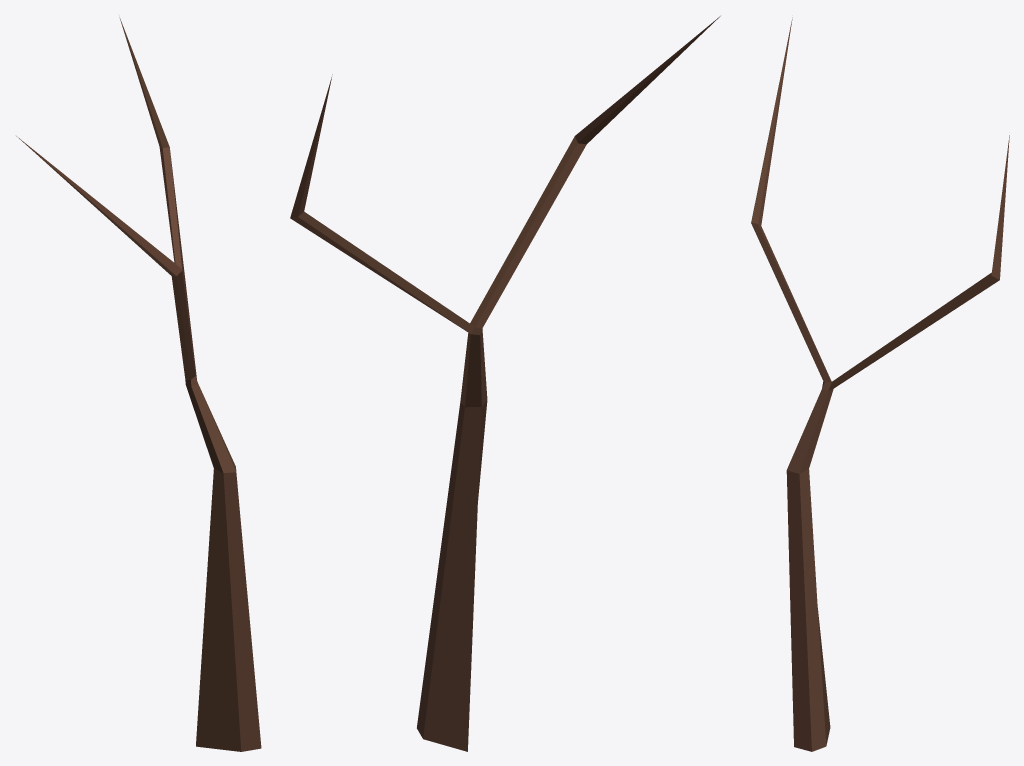
Rendered from TreeTrunk_31.fbx.
3 views of the same model, side by side, from view 1: azimuth 30°, elevation 25°; view 2: azimuth 150°, elevation 25°; view 3: azimuth 270°, elevation 25° (orthographic). The views are drawn at different scales.
Visible parts, largest first — view 1: TreeTrunk_31; view 2: TreeTrunk_31; view 3: TreeTrunk_31.
Boxes of the visible parts, bbox=[...] form: TreeTrunk_31: bbox=[16, 17, 261, 751]; TreeTrunk_31: bbox=[290, 16, 720, 751]; TreeTrunk_31: bbox=[751, 17, 1009, 751].
Bounding box in the file's own units: 192 × 469 × 176.
